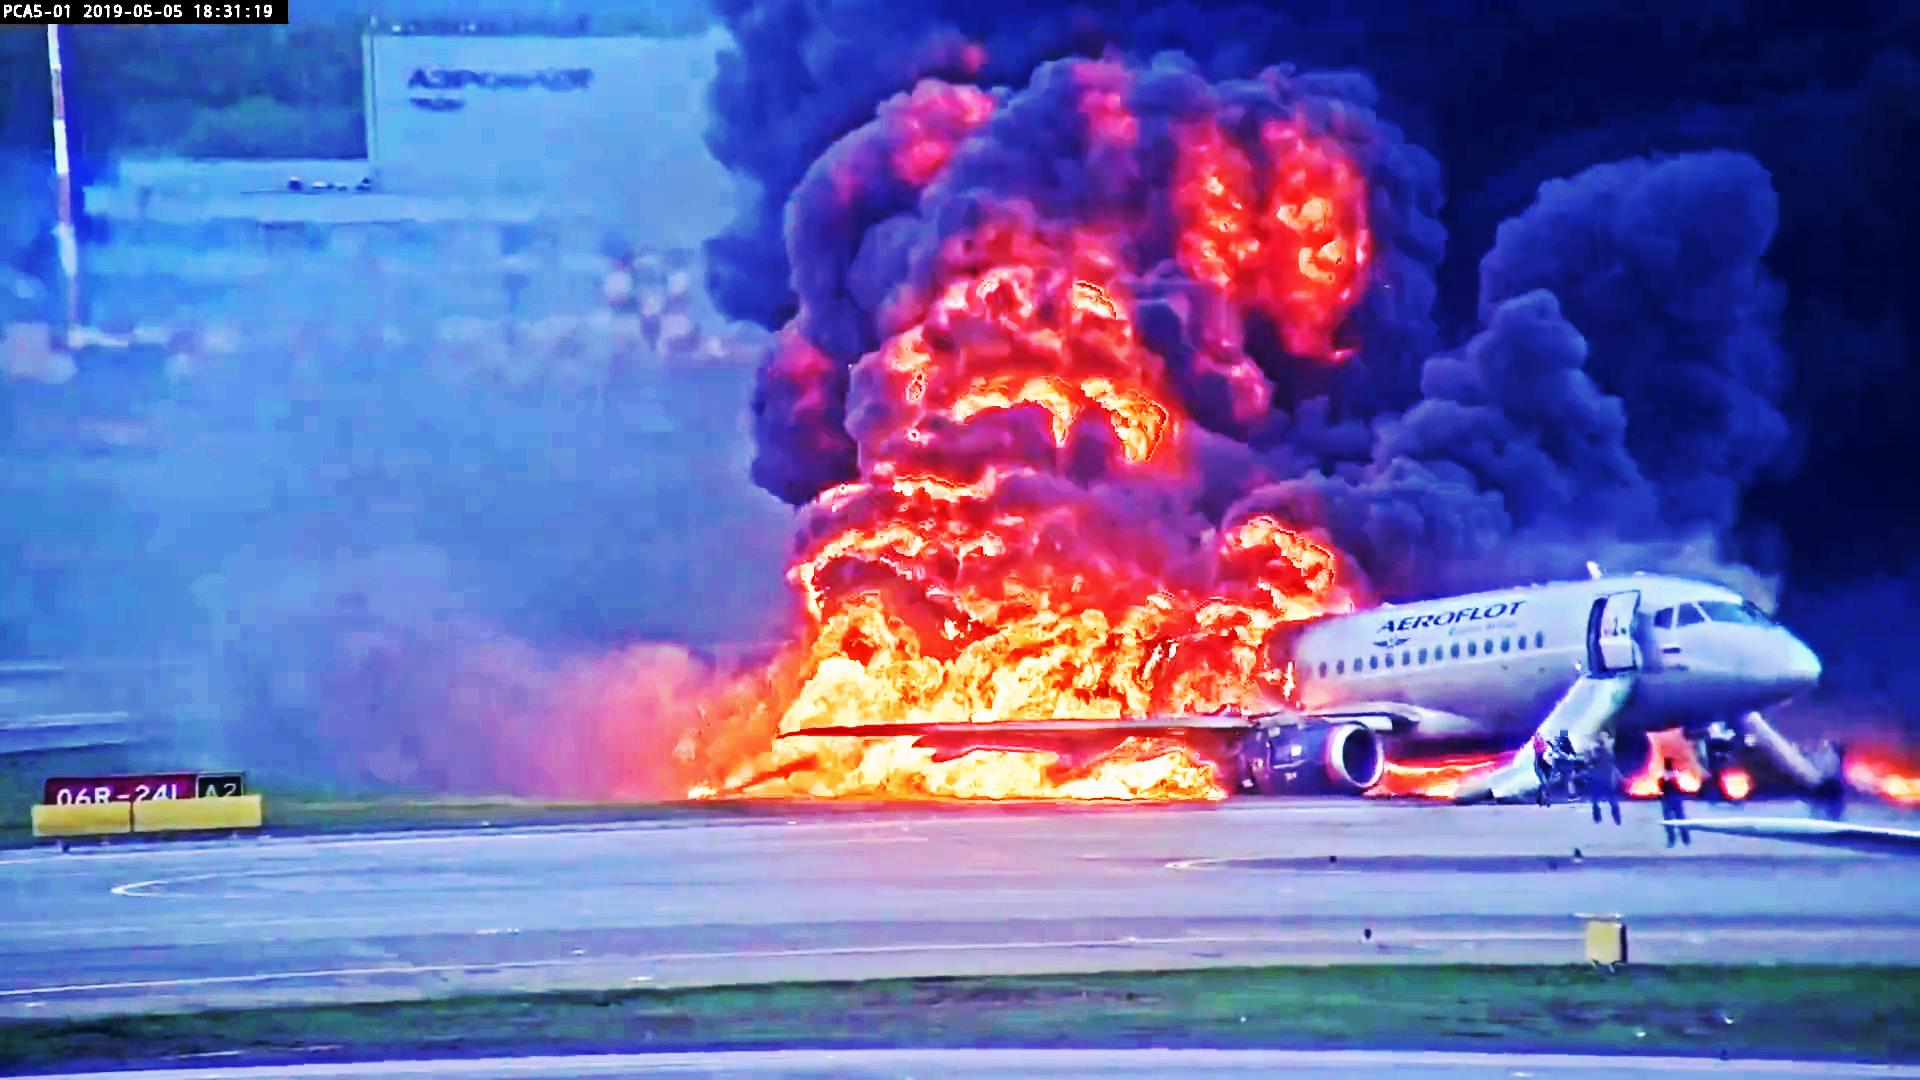fire: (808, 596, 1259, 712), (806, 733, 1207, 798)
smoke: (1493, 150, 1811, 600), (1325, 365, 1689, 575)
